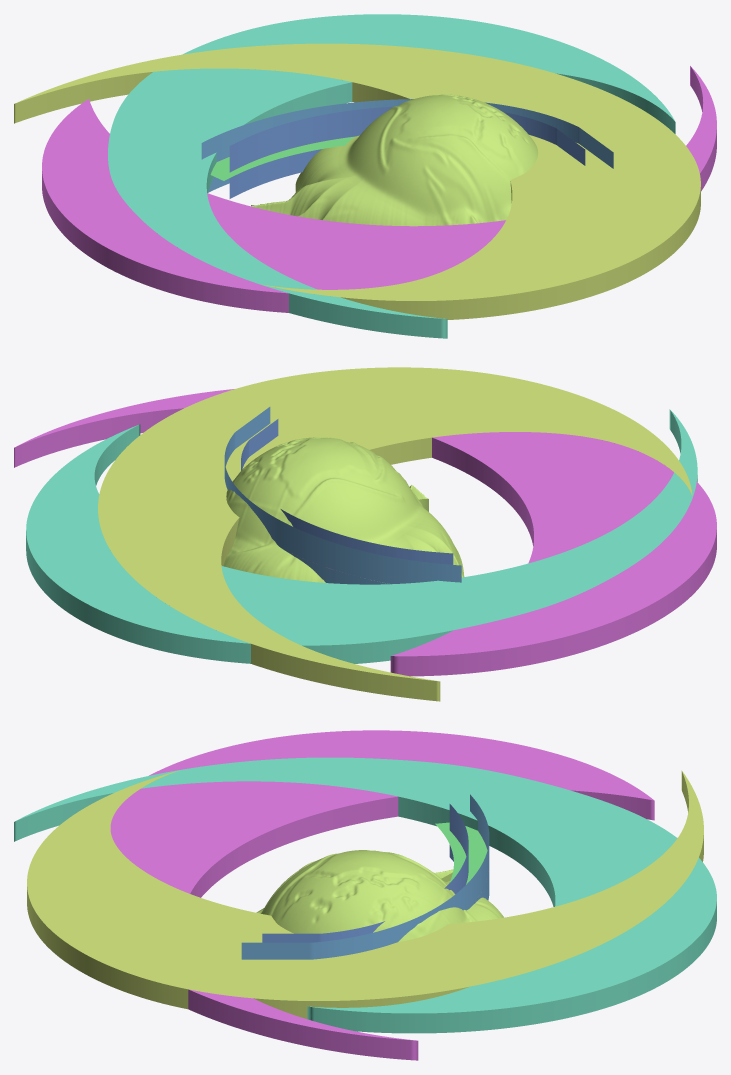
The model's file is corridor-original.glb.
3 renders of one model, top to bottom at view 1: azimuth 30°, elevation 25°; view 2: azimuth 150°, elevation 25°; view 3: azimuth 270°, elevation 25°, orthographic. The views are drawn at different scales.
Visible parts, largest first — view 1: Swoosh • Blue.002, Swoosh • Red.002, Swoosh • Orange.002, Emblem • Eagle and Globe • Sculpted Bronze.002, Connecting plane • joins yellow tip.001, Red corridor wall • separate from logo.001, Plain floor • red to connecting plane.001; view 2: Swoosh • Blue.002, Swoosh • Red.002, Swoosh • Orange.002, Emblem • Eagle and Globe • Sculpted Bronze.002, Red corridor wall • separate from logo.001, Connecting plane • joins yellow tip.001; view 3: Swoosh • Blue.002, Swoosh • Red.002, Swoosh • Orange.002, Emblem • Eagle and Globe • Sculpted Bronze.002, Red corridor wall • separate from logo.001, Connecting plane • joins yellow tip.001, Plain floor • red to connecting plane.001.
Boxes of the visible parts, x1,y1,x2,y2 form: Swoosh • Blue.002: (14,43,700,319); Swoosh • Red.002: (108,14,675,338); Swoosh • Orange.002: (42,66,716,312); Emblem • Eagle and Globe • Sculpted Bronze.002: (251,94,538,226); Connecting plane • joins yellow tip.001: (229,106,585,198); Red corridor wall • separate from logo.001: (201,99,613,192); Plain floor • red to connecting plane.001: (210,136,354,180); Swoosh • Blue.002: (98,367,692,701); Swoosh • Red.002: (26,409,697,663); Swoosh • Orange.002: (14,389,716,676); Emblem • Eagle and Globe • Sculpted Bronze.002: (223,437,464,582); Red corridor wall • separate from logo.001: (224,407,461,584); Connecting plane • joins yellow tip.001: (241,419,453,564); Swoosh • Blue.002: (27,770,703,1018); Swoosh • Red.002: (14,757,716,1033); Swoosh • Orange.002: (110,730,654,1060); Emblem • Eagle and Globe • Sculpted Bronze.002: (256,850,503,941); Red corridor wall • separate from logo.001: (241,794,489,959); Connecting plane • joins yellow tip.001: (262,804,468,942); Plain floor • red to connecting plane.001: (435,822,487,884).
Size of the model in its own units: 1.17e+07 by 1980404 by 1.12e+07.
